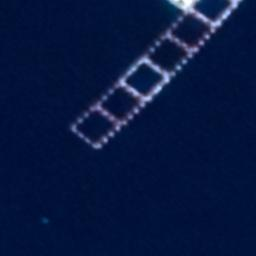square_solid: (67, 101, 124, 155), (93, 78, 149, 131), (117, 53, 173, 105), (141, 29, 196, 80), (164, 6, 220, 56), (186, 1, 242, 29)
